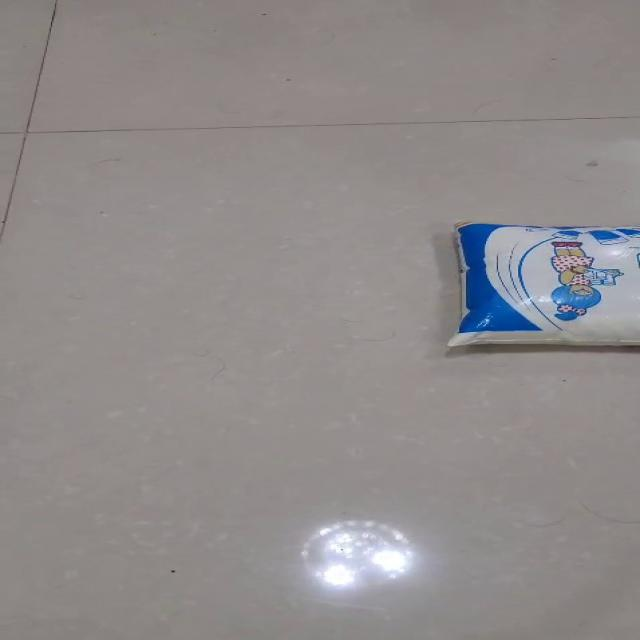plastic: (444, 220, 638, 348)
